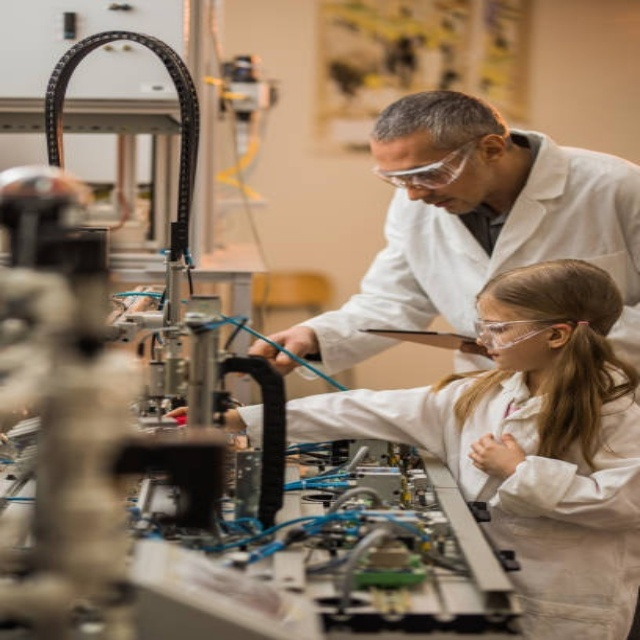Gafas: (373, 141, 480, 191), (472, 317, 578, 351)
Sin_guantes: (246, 325, 320, 375), (466, 431, 524, 480), (167, 402, 247, 435)
Sin_mascara: (419, 193, 471, 219), (478, 342, 516, 368)
